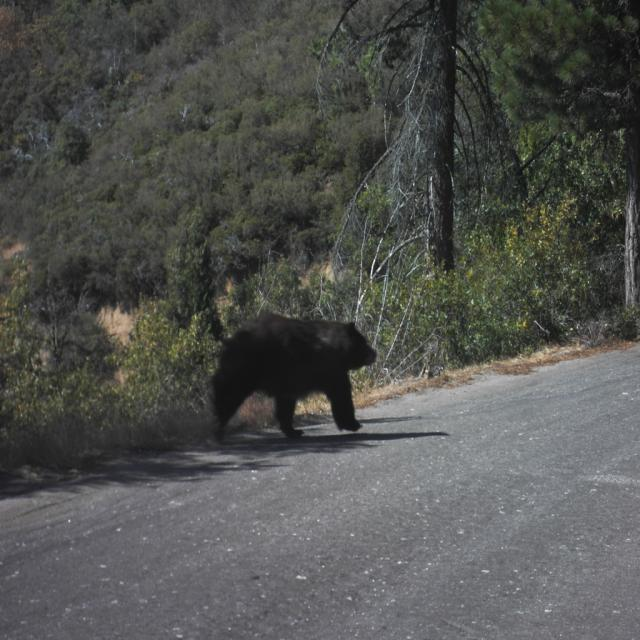Cheetahs: (205, 306, 378, 445)
